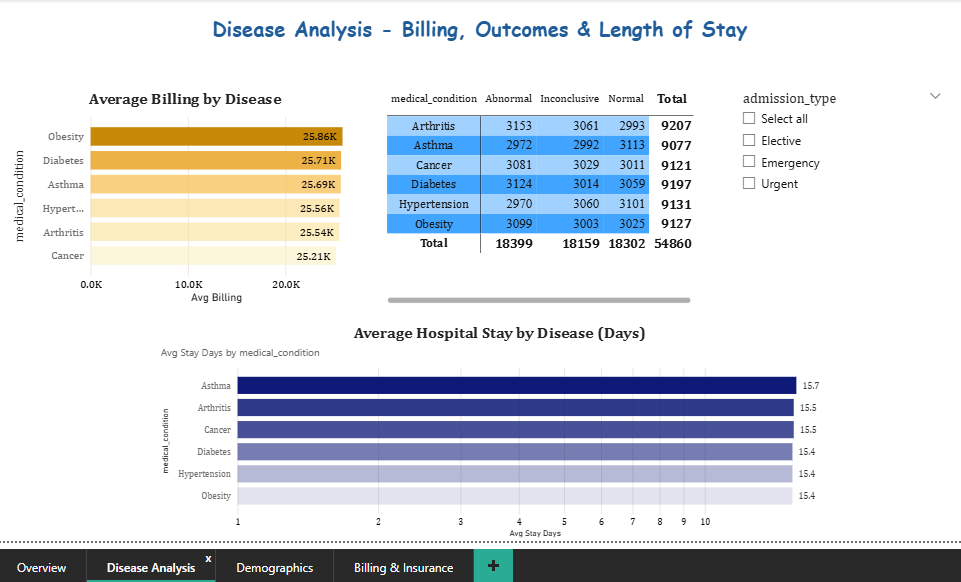

This screenshot's page, from the dashboard's own definition file:
{"tool":"powerbi","page":{"name":"Disease Analysis","canvas":[1280,720],"ordinal":1},"visuals":[{"type":"clusteredBarChart","title":"Average Billing by Disease","fields":{"Category":["healthcare_clean.medical_condition"],"Y":["healthcare_clean.Avg Billing"]},"box":[0,100,496.7,325],"z":0},{"type":"pivotTable","fields":{"Rows":["healthcare_clean.medical_condition"],"Columns":["healthcare_clean.test_results"],"Values":["CountNonNull(healthcare_clean.name)"]},"box":[496.7,100,446.7,325],"z":1000},{"type":"clusteredBarChart","title":"Average Hospital Stay by Disease (Days)","fields":{"Category":["healthcare_clean.medical_condition"],"Y":["healthcare_clean.Avg Stay Days"]},"box":[211.7,425,910,295],"z":2000},{"type":"slicer","fields":{"Values":["healthcare_clean.admission_type"]},"box":[961.7,100,318.3,183.3],"z":3000},{"type":"textbox","box":[0,15,1280,68.3],"z":4000}]}

Visuals, with their boxes on the page's 1280x720 design canvas (x1, y1, x2, y2). These are canvas units, not pixel positions in the 961x582 screenshot, which may show the page scaled, cropped or inside an application window:
"Average Billing by Disease" clusteredBarChart: [x1=0, y1=100, x2=497, y2=425]
pivotTable - healthcare_clean.medical_condition x healthcare_clean.test_results: [x1=497, y1=100, x2=943, y2=425]
"Average Hospital Stay by Disease (Days)" clusteredBarChart: [x1=212, y1=425, x2=1122, y2=720]
slicer - healthcare_clean.admission_type: [x1=962, y1=100, x2=1280, y2=283]
textbox: [x1=0, y1=15, x2=1280, y2=83]
